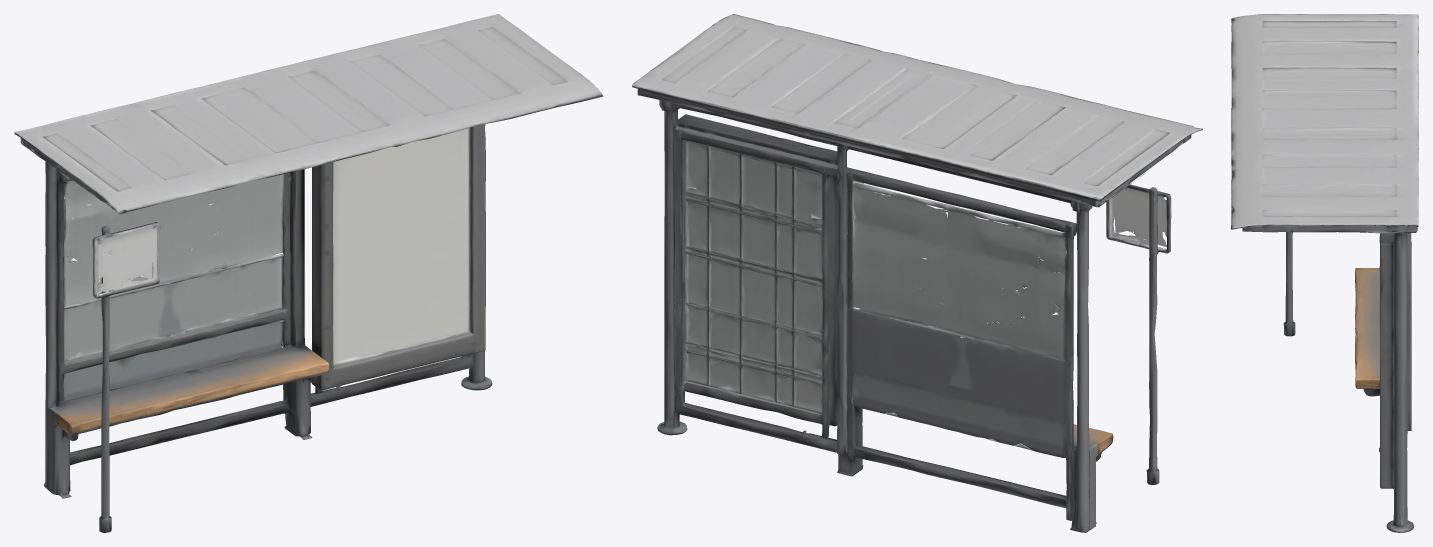
Rendered from durak.glb.
3 views of the same model, side by side, from view 1: azimuth 30°, elevation 25°; view 2: azimuth 150°, elevation 25°; view 3: azimuth 270°, elevation 25° (orthographic). The views are drawn at different scales.
Visible parts, largest first — view 1: tripo_node_ba8f665e-6e98-41eb-a835-b2f09e6f0b7f; view 2: tripo_node_ba8f665e-6e98-41eb-a835-b2f09e6f0b7f; view 3: tripo_node_ba8f665e-6e98-41eb-a835-b2f09e6f0b7f.
Boxes of the visible parts, x1=… form: tripo_node_ba8f665e-6e98-41eb-a835-b2f09e6f0b7f: x1=14, y1=14, x2=603, y2=532; tripo_node_ba8f665e-6e98-41eb-a835-b2f09e6f0b7f: x1=632, y1=14, x2=1202, y2=532; tripo_node_ba8f665e-6e98-41eb-a835-b2f09e6f0b7f: x1=1231, y1=14, x2=1418, y2=532.
Size of the model in its own units: 1 by 0.7076 by 0.3774.
Materials: 1 (1 with a texture image).
